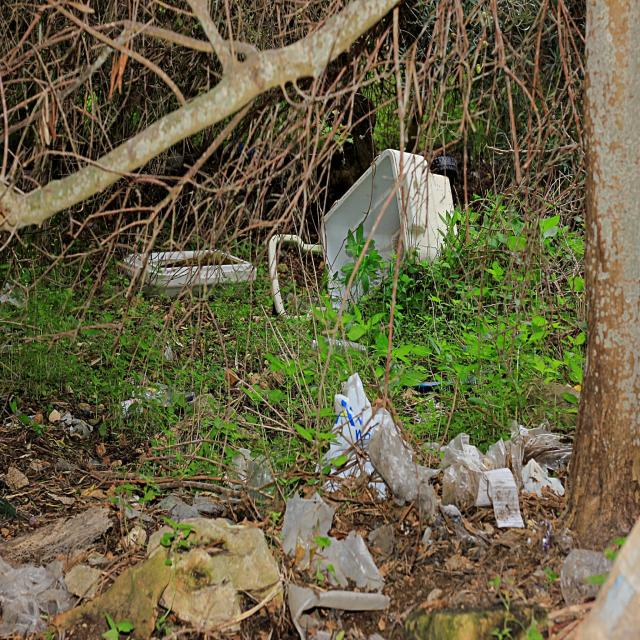Bottle: (312, 338, 369, 361)
Carton: (474, 464, 525, 525)
Other litter: (322, 374, 441, 508), (405, 382, 456, 394)
Other plastic: (268, 147, 461, 323), (276, 492, 388, 639), (434, 428, 575, 501), (121, 248, 259, 299), (0, 562, 67, 635), (119, 373, 196, 420), (561, 548, 612, 610), (230, 444, 273, 506), (157, 491, 225, 526)
